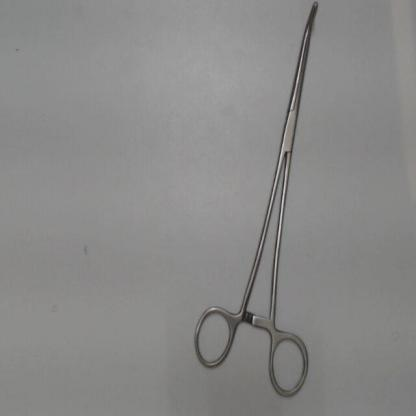Lahey Forceps: (190, 1, 322, 403)
